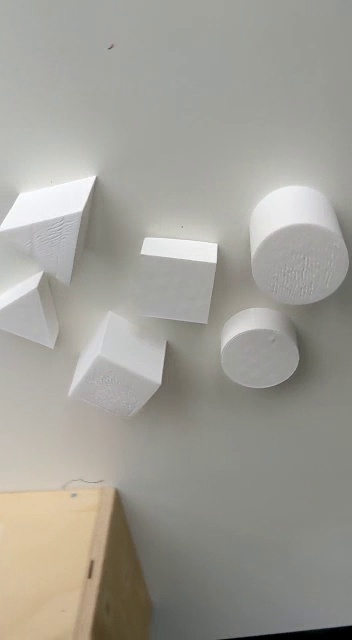Clyinder_short: (218, 306, 300, 388)
Cube: (65, 309, 174, 429)
Cube_short: (132, 233, 221, 331)
Cylinder: (245, 183, 352, 311)
Triangle: (1, 172, 100, 287)
Triangle_short: (1, 270, 64, 353)
